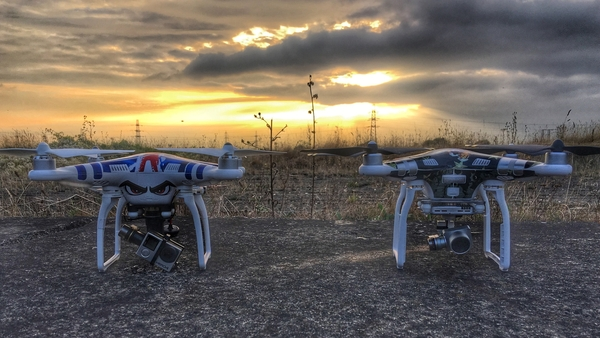drone: (301, 138, 600, 274), (22, 136, 287, 283)
